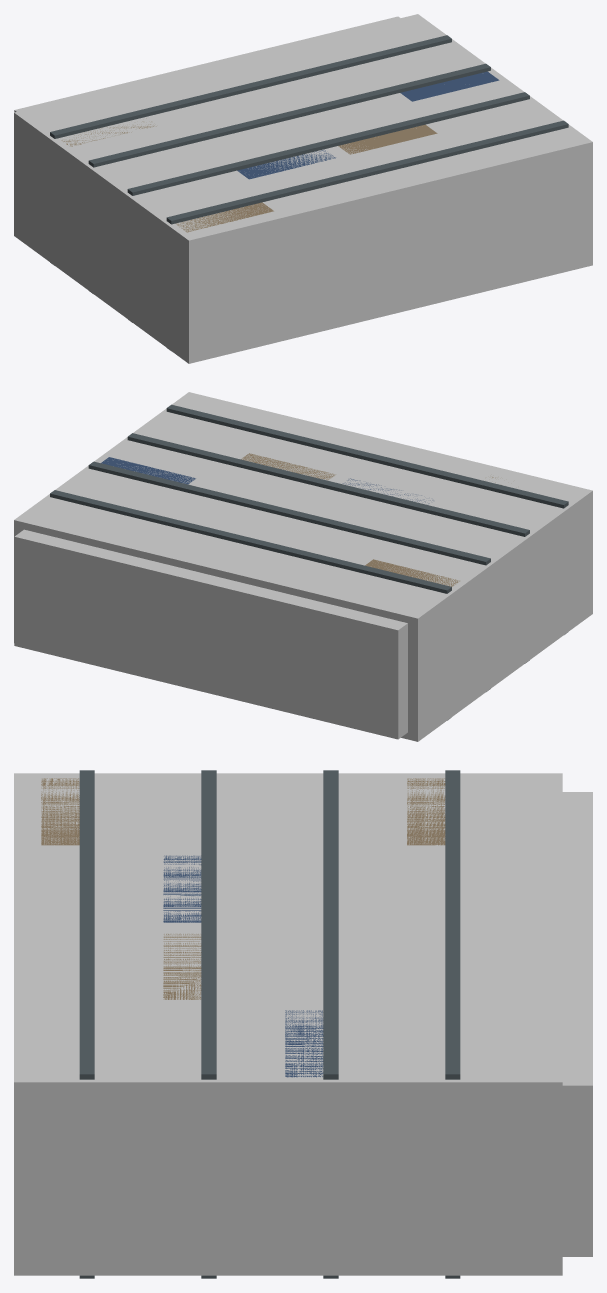
Rendered from SM_BSW_WallMerchBay.obj.
3 views of the same model, one above another, from view 1: azimuth 30°, elevation 25°; view 2: azimuth 150°, elevation 25°; view 3: azimuth 270°, elevation 25° (orthographic). The views are drawn at different scales.
Visible parts, largest first — view 1: SM_BSW_WallMerchBay; view 2: SM_BSW_WallMerchBay; view 3: SM_BSW_WallMerchBay.
Part boxes in pixels (left/top/right/bottom): SM_BSW_WallMerchBay: left=14, top=14, right=592, bottom=363; SM_BSW_WallMerchBay: left=14, top=392, right=592, bottom=741; SM_BSW_WallMerchBay: left=14, top=770, right=592, bottom=1278.
Size of the model in its own units: 240 by 74 by 190.
